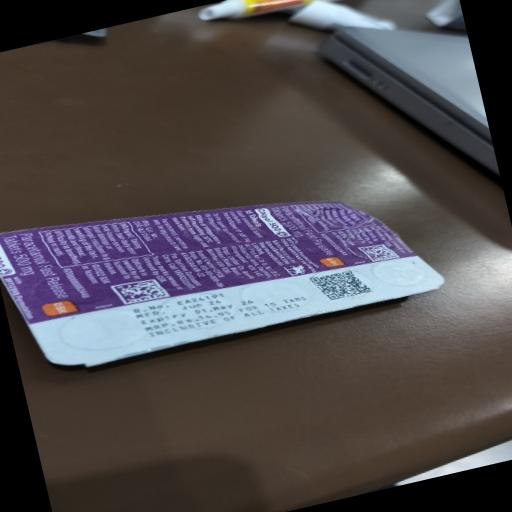calpol-500: (248, 196, 306, 247)
medicine: (0, 130, 460, 389)
